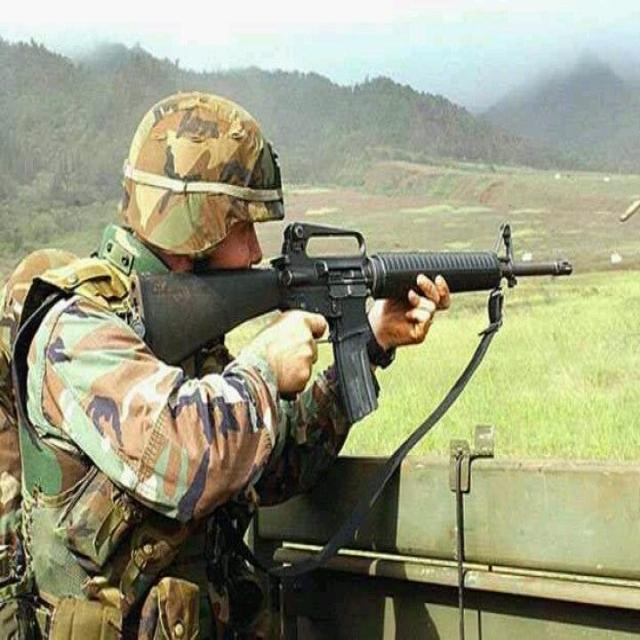Rifle: (147, 221, 574, 423)
